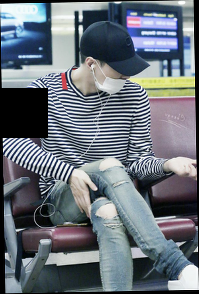mask_weared_incorrect: (95, 62, 130, 97)
